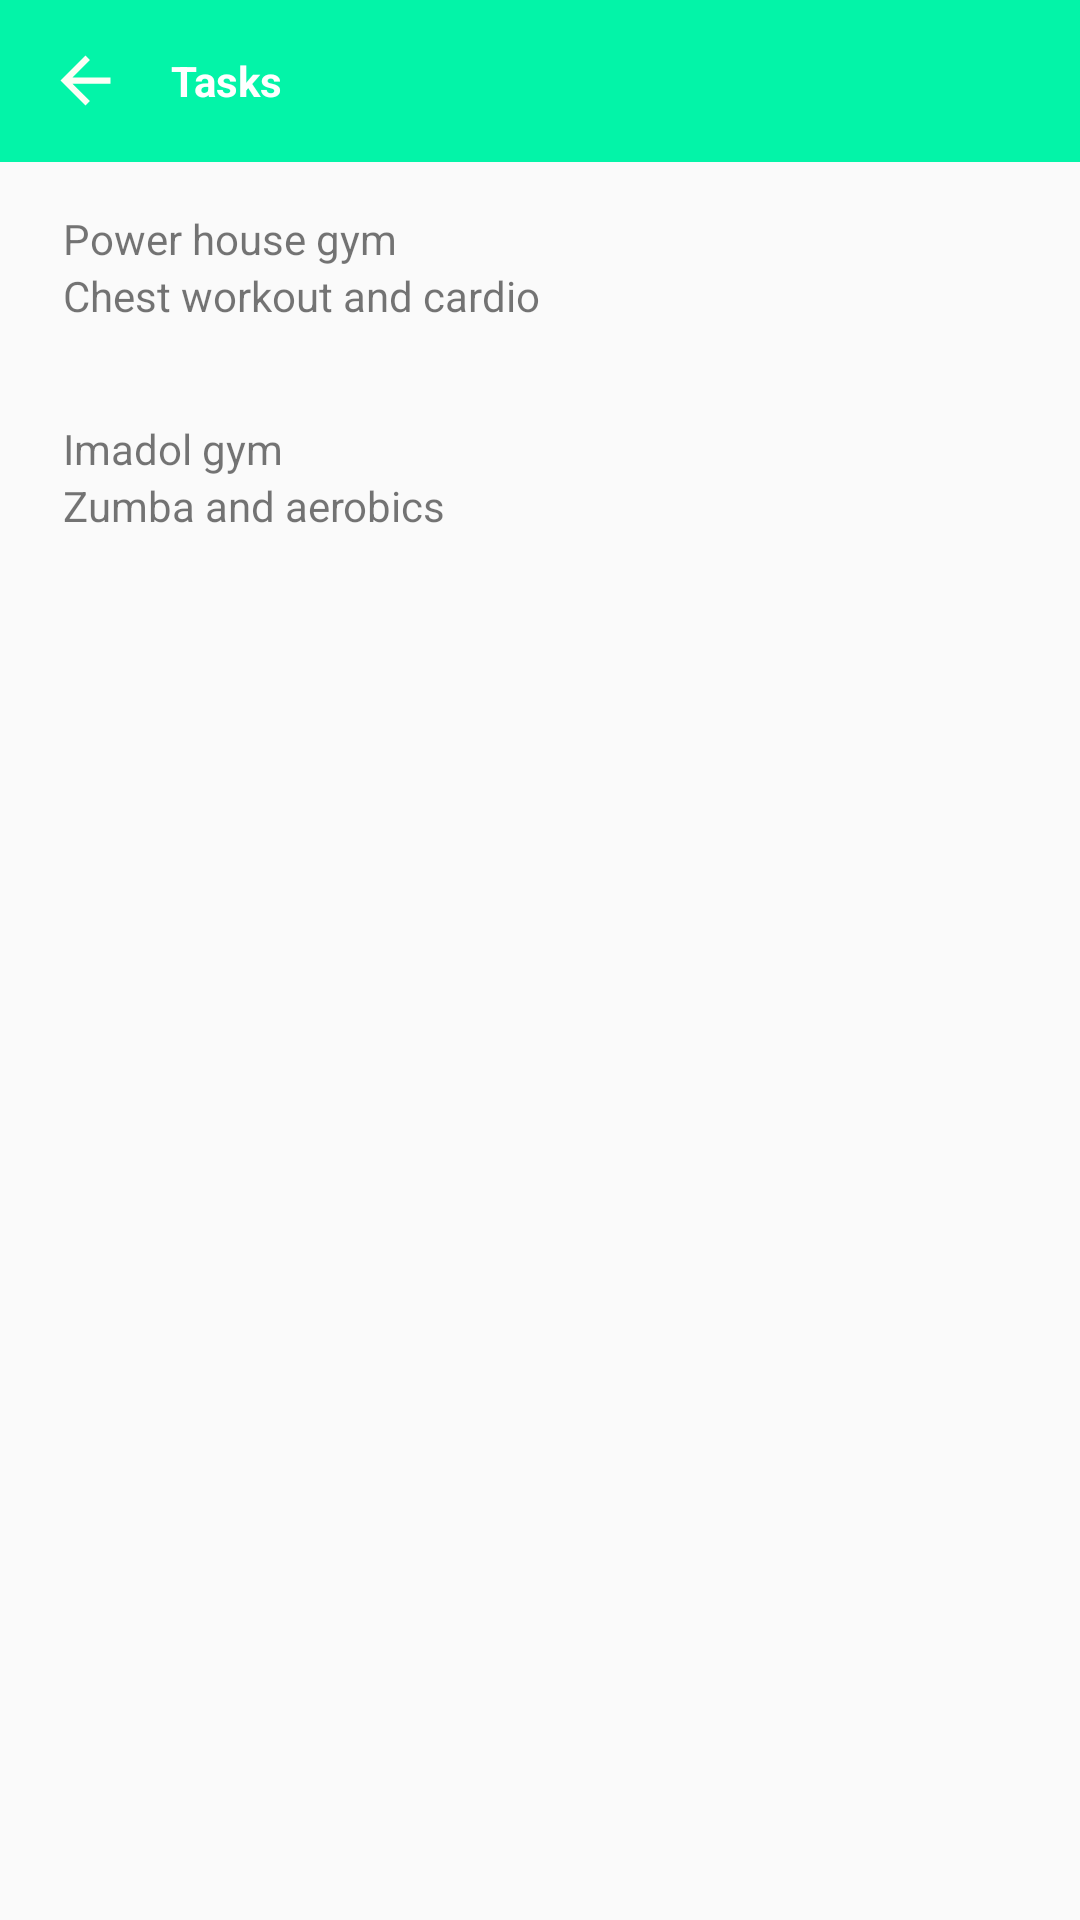

Screen size 1080px x 1920px. Icon name, then its box in pixels as [x1, y1, x2, y2]:
back: [60, 55, 111, 106]
